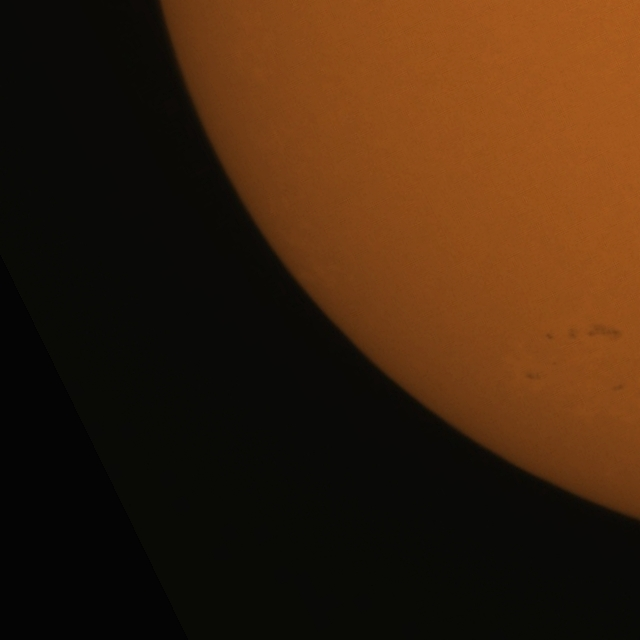sunspot: (545, 331, 555, 341)
